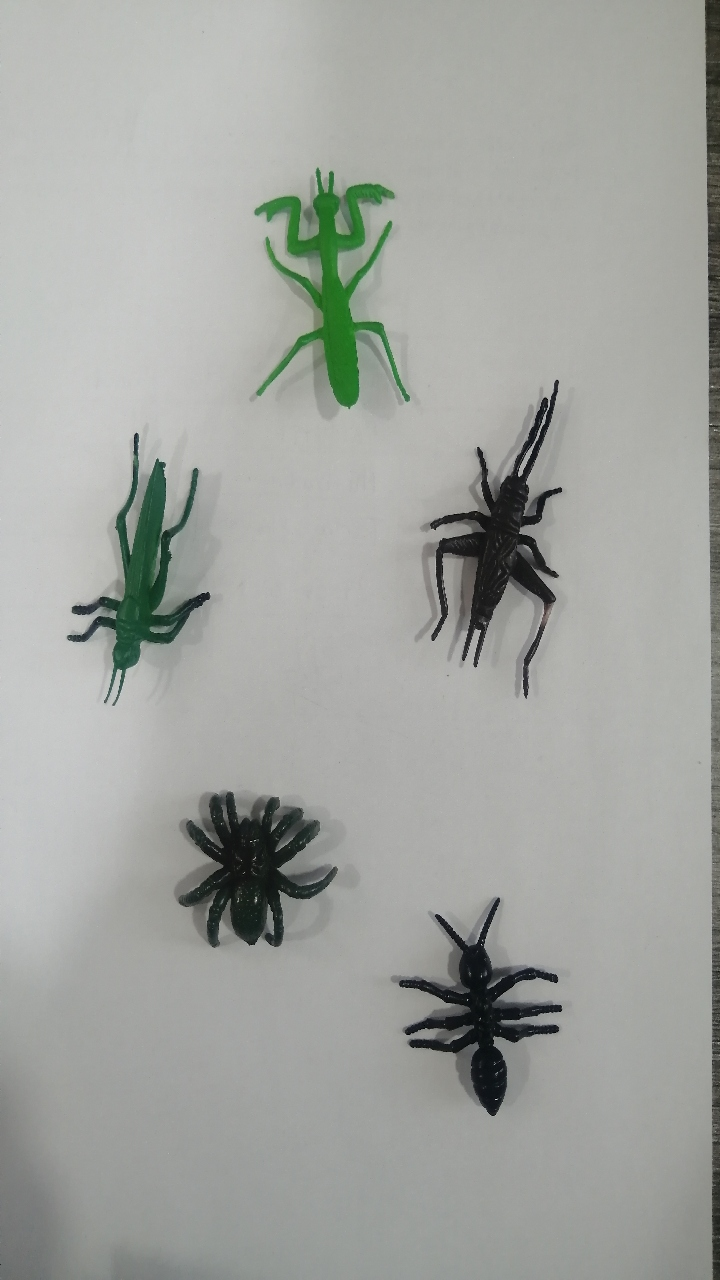intruso: (381, 362, 594, 720), (361, 860, 604, 1148), (218, 125, 429, 443), (20, 420, 241, 717), (146, 739, 363, 979)
